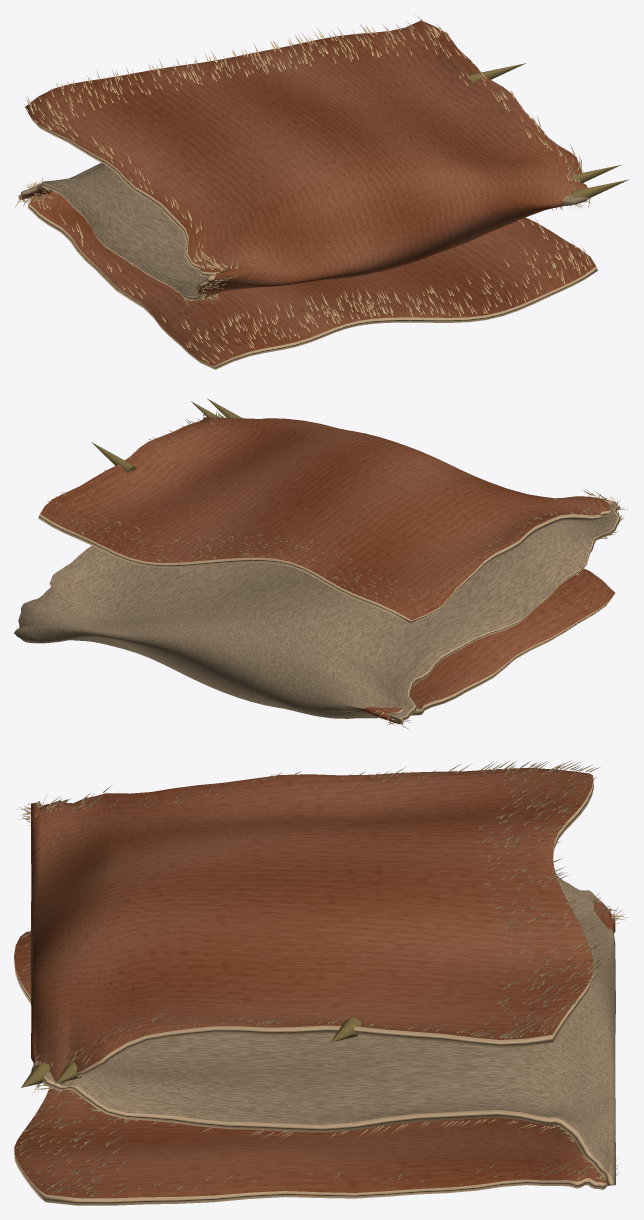
The model's file is bramble_hide.glb.
3 views of the same model, one above another, from view 1: azimuth 30°, elevation 25°; view 2: azimuth 150°, elevation 25°; view 3: azimuth 270°, elevation 25° (orthographic). The views are drawn at different scales.
Visible parts, largest first — view 1: bramble_hide supple outer surface, Matte tapered natural hair, bramble_hide rough suede reverse, bramble_hide exposed cut fibers, Old ochre bramble thorns; view 2: bramble_hide supple outer surface, bramble_hide rough suede reverse, bramble_hide exposed cut fibers, Matte tapered natural hair, Old ochre bramble thorns; view 3: bramble_hide supple outer surface, bramble_hide rough suede reverse, bramble_hide exposed cut fibers, Matte tapered natural hair, Old ochre bramble thorns.
Part boxes in pixels (x1=…): bramble_hide supple outer surface: x1=21, y1=20, x2=595, y2=366; Matte tapered natural hair: x1=15, y1=14, x2=591, y2=363; bramble_hide rough suede reverse: x1=42, y1=163, x2=588, y2=296; bramble_hide exposed cut fibers: x1=18, y1=115, x2=597, y2=369; Old ochre bramble thorns: x1=468, y1=63, x2=628, y2=204; bramble_hide supple outer surface: x1=40, y1=417, x2=614, y2=723; bramble_hide rough suede reverse: x1=14, y1=503, x2=617, y2=719; bramble_hide exposed cut fibers: x1=38, y1=418, x2=620, y2=724; Matte tapered natural hair: x1=16, y1=410, x2=627, y2=729; Old ochre bramble thorns: x1=91, y1=398, x2=242, y2=472; bramble_hide supple outer surface: x1=14, y1=767, x2=615, y2=1198; bramble_hide rough suede reverse: x1=31, y1=801, x2=615, y2=1184; bramble_hide exposed cut fibers: x1=14, y1=781, x2=615, y2=1205; Matte tapered natural hair: x1=15, y1=760, x2=627, y2=1197; Old ochre bramble thorns: x1=21, y1=1017, x2=361, y2=1087.
Bounding box in the file's own units: 0.547 × 0.1963 × 0.4804.
Materials: 5 (2 with a texture image).
